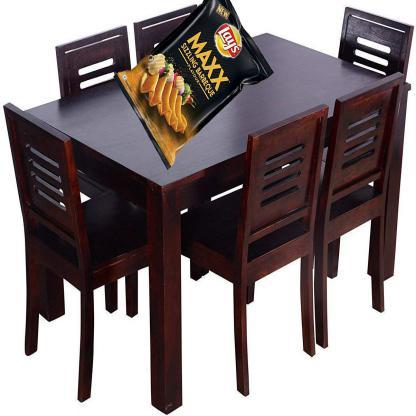maxx_sizzling_barbeque: (114, 3, 268, 147)
